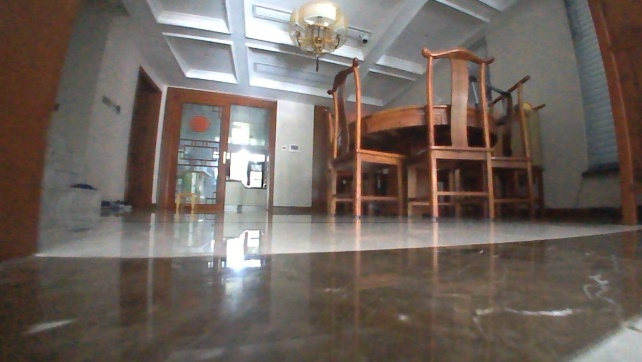cupboard: (224, 177, 267, 214)
dining_table: (319, 45, 554, 220)
